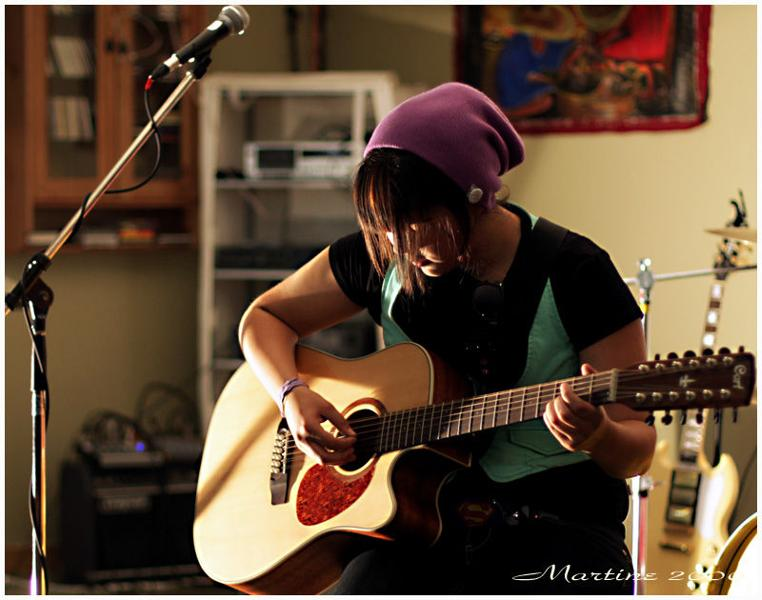person: (238, 82, 658, 596)
